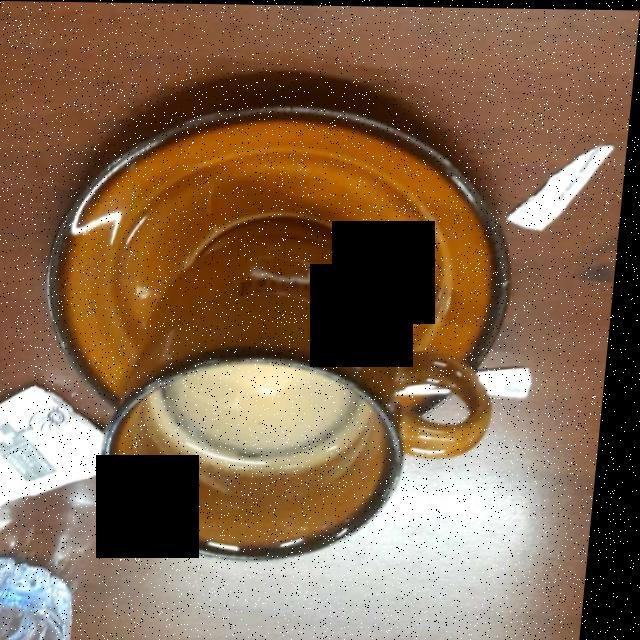coffee: (165, 362, 365, 469)
